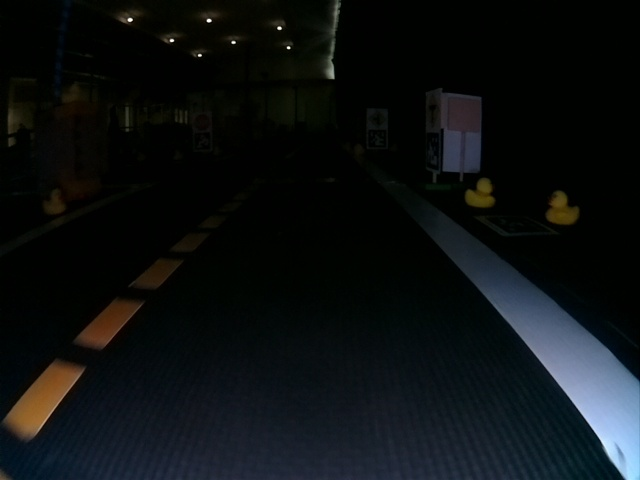Duckie: (546, 193, 578, 225), (467, 181, 495, 209), (42, 190, 63, 216)
Intersection sign: (426, 93, 440, 129), (368, 110, 386, 127)
QR code: (476, 214, 558, 237), (425, 132, 438, 170), (368, 130, 386, 148)
